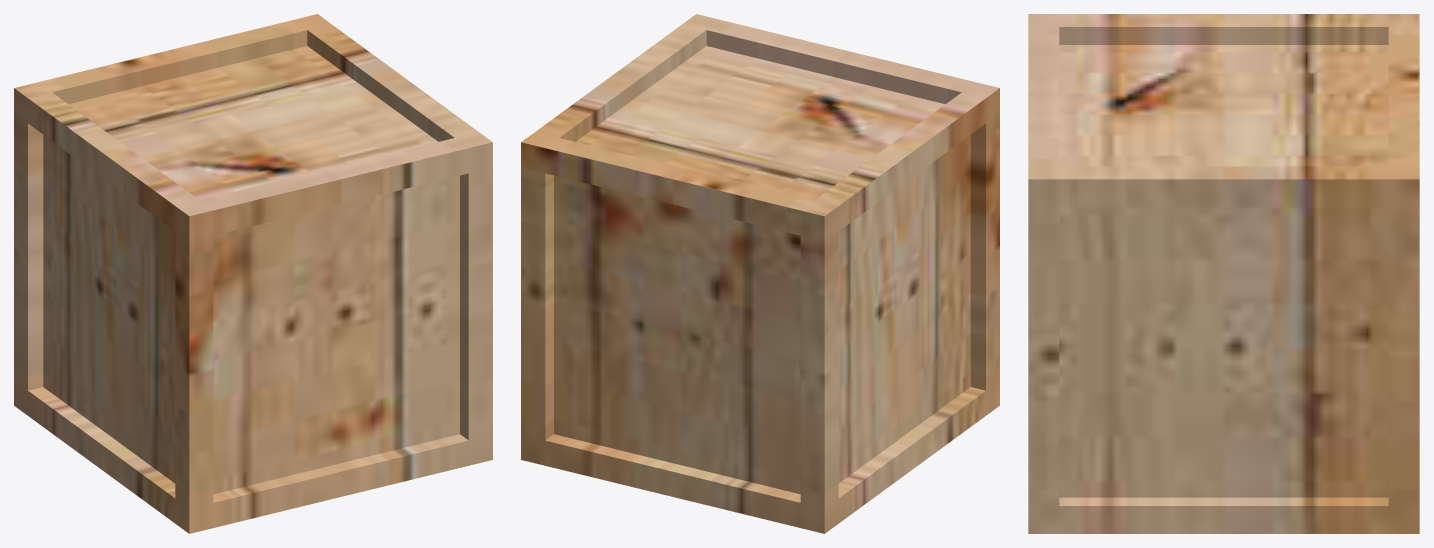
Rendered from woodenCrate.fbx.
3 renders of one model, left to right at view 1: azimuth 30°, elevation 25°; view 2: azimuth 150°, elevation 25°; view 3: azimuth 270°, elevation 25°, orthographic. The views are drawn at different scales.
Parts seen in each view (by area): view 1: Cube; view 2: Cube; view 3: Cube.
Boxes of the visible parts, x1,y1,x2,y2 form: Cube: (14, 14, 492, 533); Cube: (521, 14, 999, 533); Cube: (1028, 14, 1419, 533).
Bounding box in the file's own units: 600 × 600 × 600.
